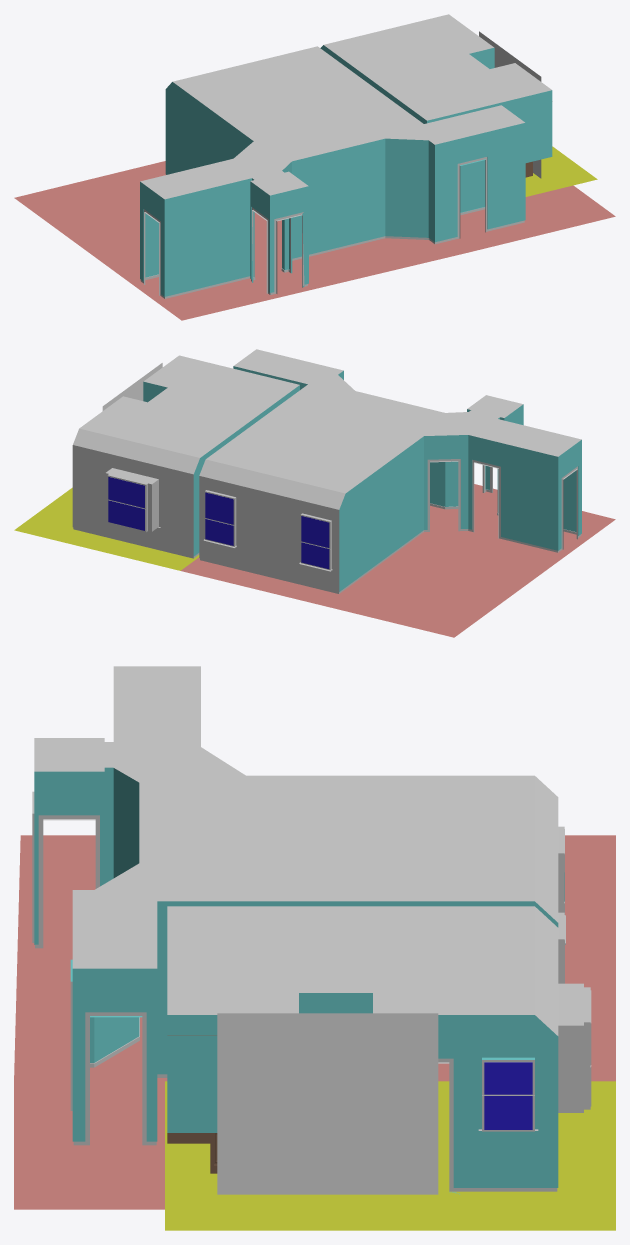
File: houseTest1.fbx
3 renders of one model, top to bottom at view 1: azimuth 30°, elevation 25°; view 2: azimuth 150°, elevation 25°; view 3: azimuth 270°, elevation 25°, orthographic. The views are drawn at different scales.
Parts seen in each view (by area): view 1: House (3).001, Plane; view 2: House (3).001, Plane; view 3: House (3).001, Plane.
Boxes of the visible parts, x1,y1,x2,y2 form: House (3).001: (14,14,615,320); Plane: (479,31,541,178); House (3).001: (14,349,615,637); Plane: (102,363,162,410); House (3).001: (14,666,615,1230); Plane: (217,1013,438,1194).
Size of the model in its own units: 51828 by 12232 by 33347.
